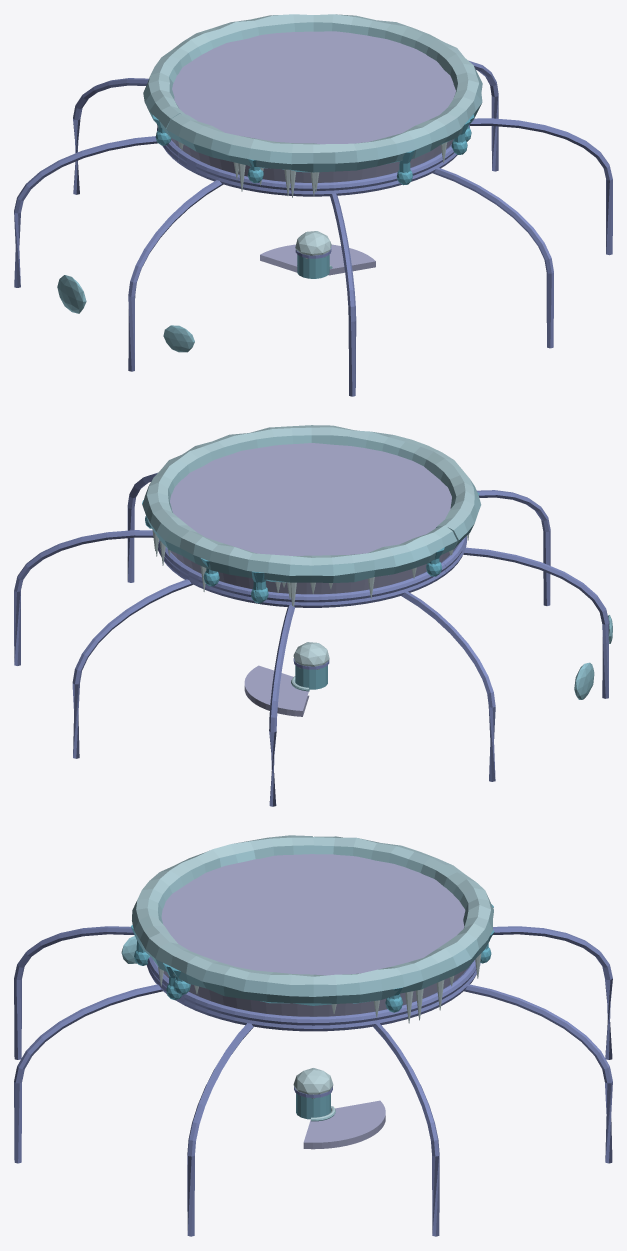
The model's file is goo_jar_trim_2_top@crystal.fbx.
3 views of the same model, one above another, from view 1: azimuth 30°, elevation 25°; view 2: azimuth 150°, elevation 25°; view 3: azimuth 270°, elevation 25° (orthographic). The views are drawn at different scales.
Visible parts, largest first — view 1: goo_jar_trim_2_top; view 2: goo_jar_trim_2_top; view 3: goo_jar_trim_2_top.
Boxes of the visible parts, <box> form: goo_jar_trim_2_top: <box>14,14,612,396</box>; goo_jar_trim_2_top: <box>14,425,612,806</box>; goo_jar_trim_2_top: <box>14,835,612,1236</box>.
Size of the model in its own units: 53.09 by 20.05 by 50.92.
